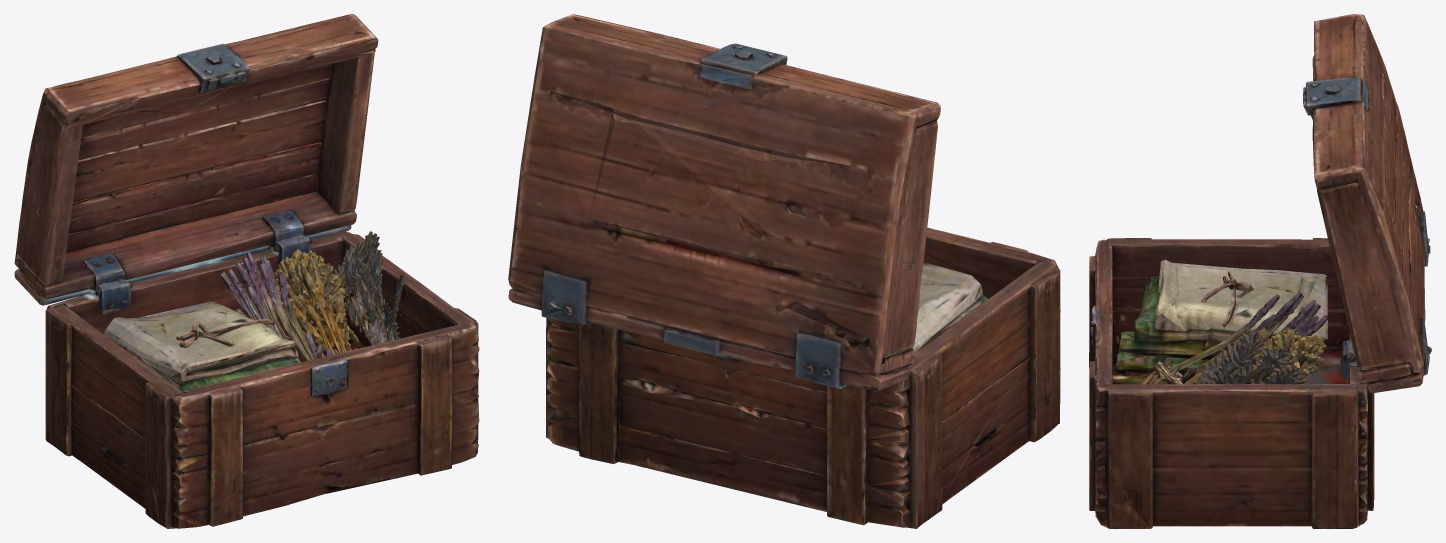
The model's file is dress-crate.glb.
3 renders of one model, left to right at view 1: azimuth 30°, elevation 25°; view 2: azimuth 150°, elevation 25°; view 3: azimuth 270°, elevation 25°, orthographic. The views are drawn at different scales.
Size of the model in its own units: 0.9295 by 0.9988 by 0.8527.
Materials: 1 (1 with a texture image).
